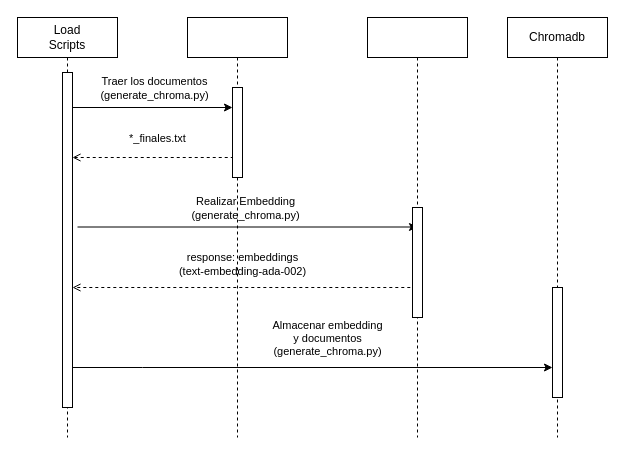
Some shapes in this 625 by 455 pixel diagram are drawn without their labels. The shapes that lost their labels are listed below. From the top down, each one's centre as x and y in pixels, then its label:
At (237,227): "Base de datos (Documentos)".
At (417,227): "OpenAI".
